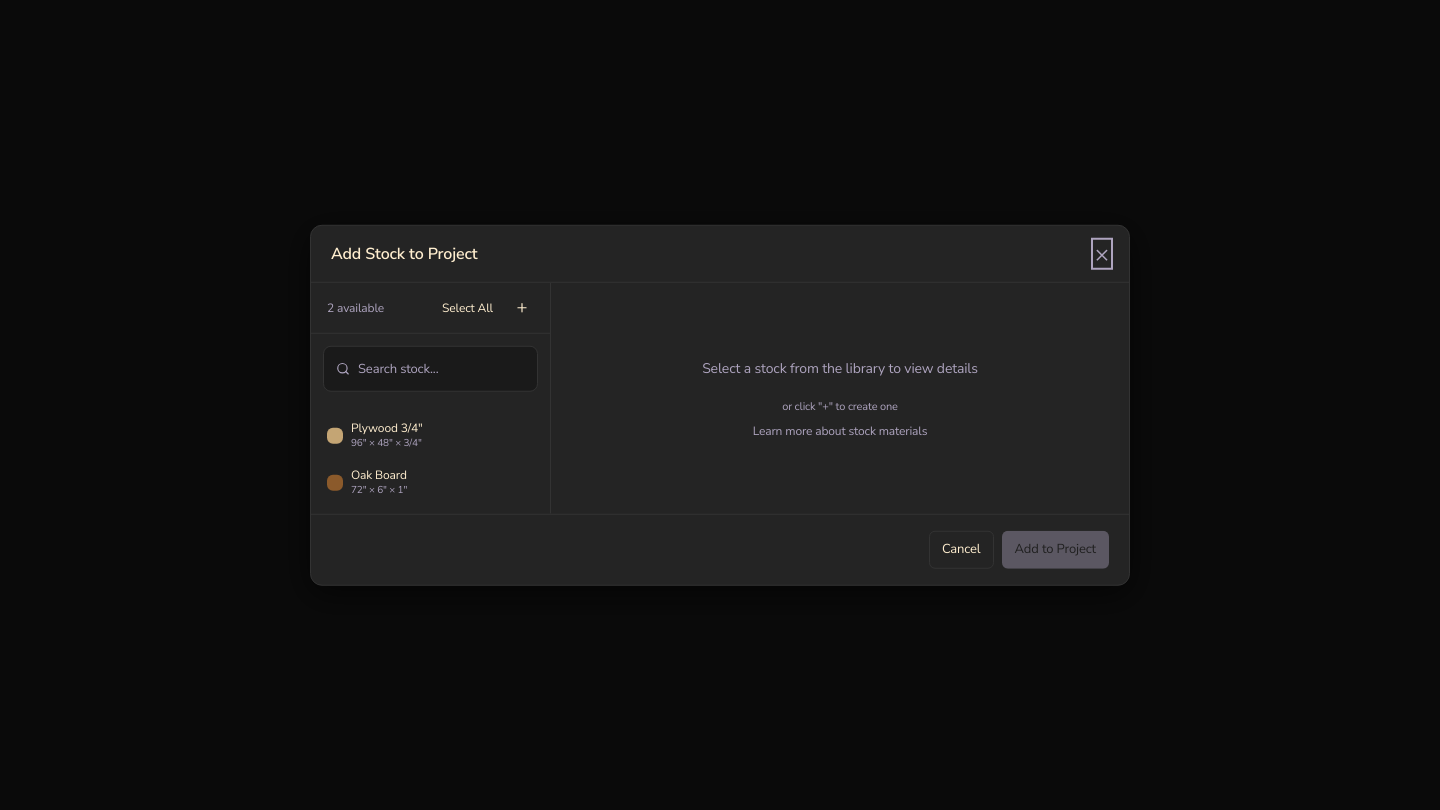
Scenario: AddStockModal › create new stock › shows Back button in create mode
Step 1. Click the button titled "Create new stock" → (522, 308), box 510,296 -> 534,320
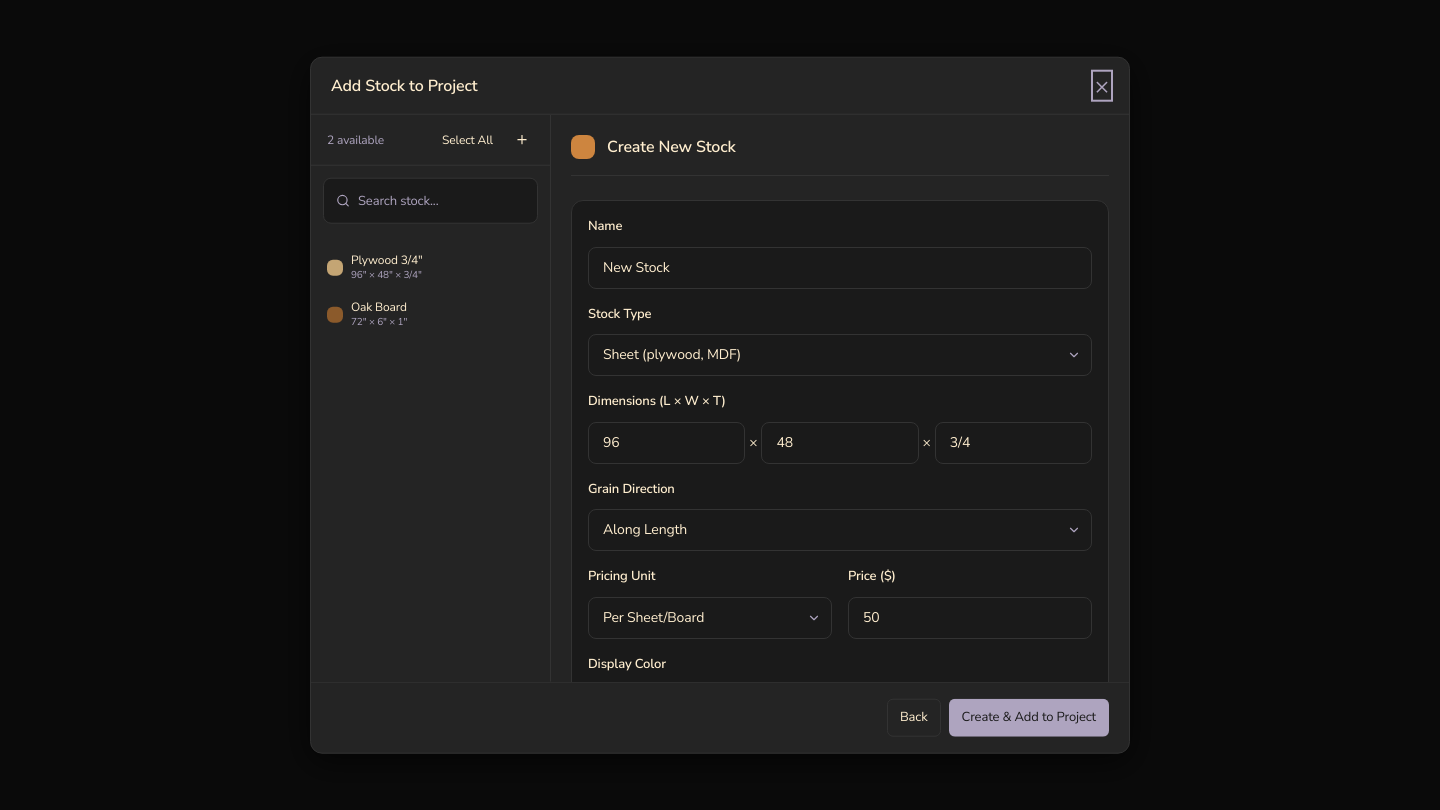
Result: the button "Back" is shown at 887,699 -> 940,736
